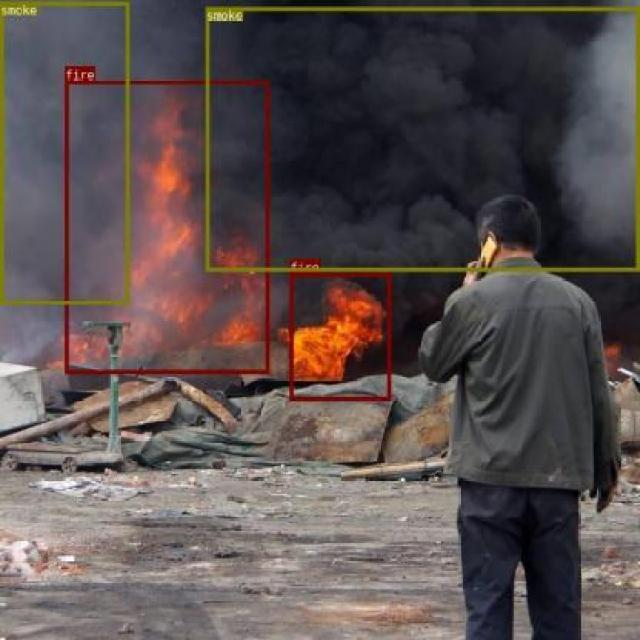Fire: (64, 79, 270, 373), (288, 272, 390, 400)
Smoke: (204, 5, 638, 270), (0, 1, 129, 304)
